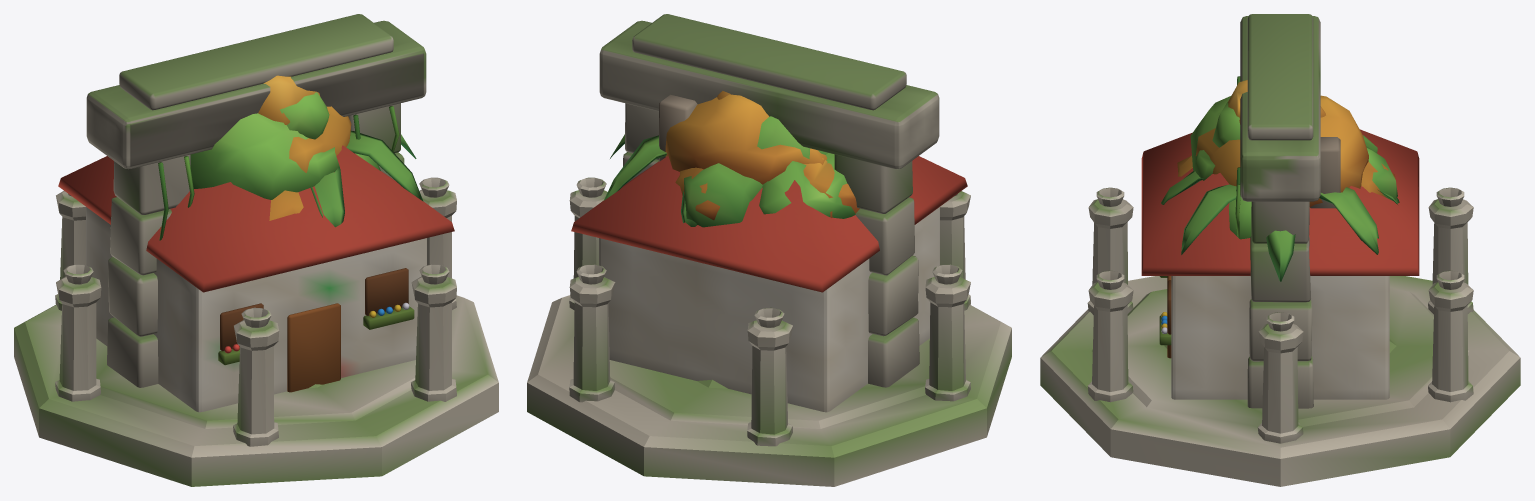
Rendered from props.glb.
The picture shows the model from 3 angles, left to right: view 1: azimuth 30°, elevation 25°; view 2: azimuth 150°, elevation 25°; view 3: azimuth 270°, elevation 25°; orthographic projection. The views are drawn at different scales.
Parts seen in each view (by area): view 1: Shrine, Hut, Arch, TreeRound, TreeAutumn, Palm; view 2: Shrine, Hut, Arch, TreeAutumn, TreeRound, Palm; view 3: Shrine, Hut, Arch, TreeAutumn, Palm, TreeRound.
Boxes of the visible parts, bbox=[...] form: Shrine: bbox=[14, 177, 498, 486]; Hut: bbox=[58, 145, 454, 412]; Arch: bbox=[86, 14, 426, 387]; TreeRound: bbox=[190, 92, 380, 199]; TreeAutumn: bbox=[258, 75, 351, 220]; Palm: bbox=[310, 131, 423, 227]; Shrine: bbox=[527, 177, 1011, 486]; Hut: bbox=[571, 94, 967, 412]; Arch: bbox=[599, 14, 939, 387]; TreeAutumn: bbox=[665, 91, 859, 220]; TreeRound: bbox=[684, 116, 855, 227]; Palm: bbox=[604, 134, 697, 226]; Shrine: bbox=[1040, 187, 1520, 486]; Hut: bbox=[1141, 129, 1419, 399]; Arch: bbox=[1235, 14, 1320, 408]; TreeAutumn: bbox=[1177, 80, 1396, 206]; Palm: bbox=[1161, 171, 1399, 281]; TreeRound: bbox=[1190, 96, 1397, 239].
Bounding box in the file's own units: 13.2 × 9.6 × 13.2.
